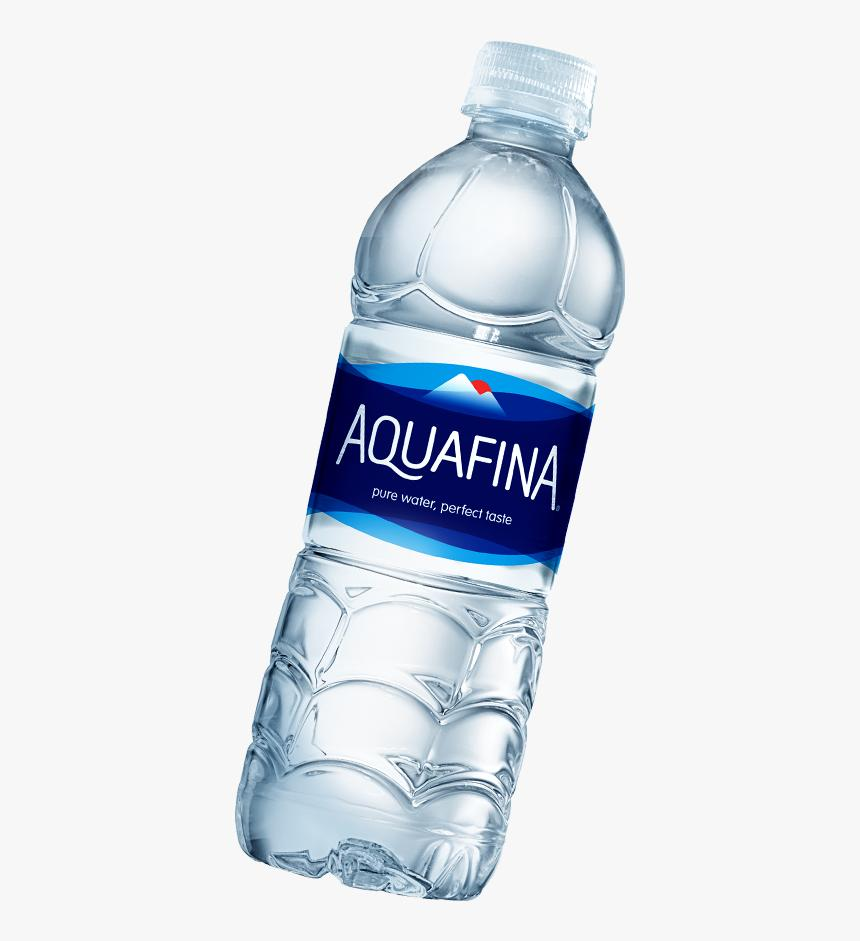bottle: (0, 0, 326, 517)
